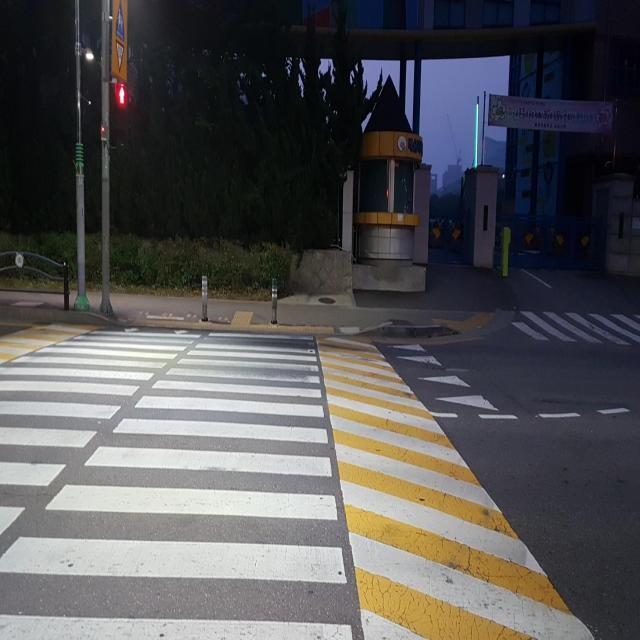횡단보도: (0, 321, 355, 640)
